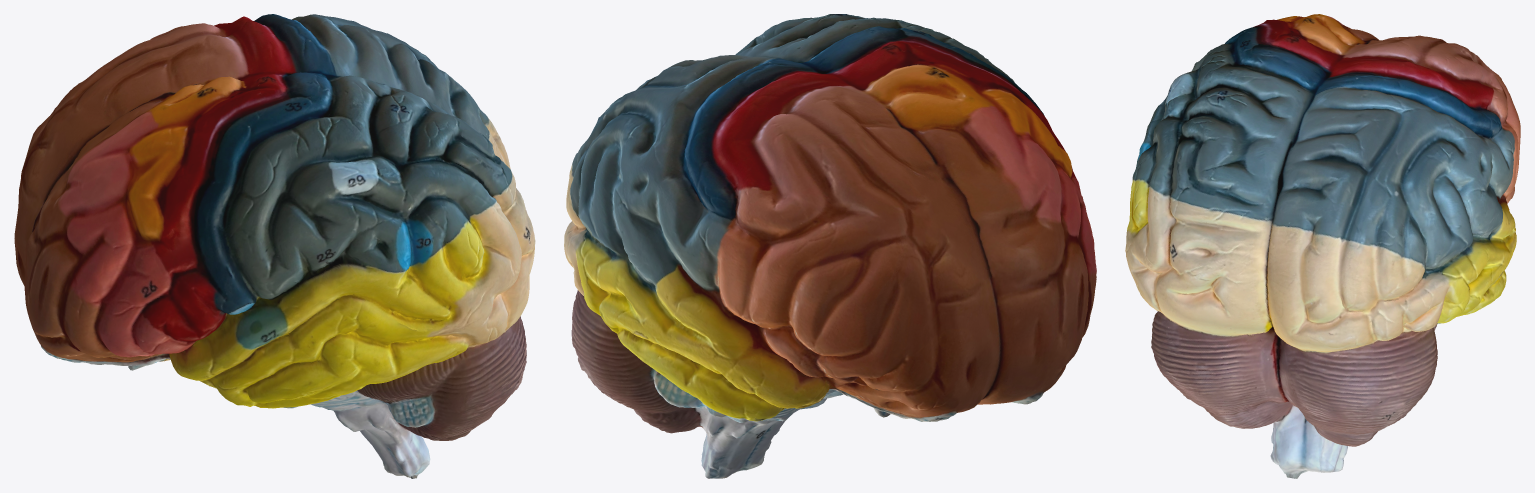
File: colored_brain_model.glb
3 views of the same model, side by side, from view 1: azimuth 30°, elevation 25°; view 2: azimuth 150°, elevation 25°; view 3: azimuth 270°, elevation 25° (orthographic). The views are drawn at different scales.
Parts seen in each view (by area): view 1: Object_4; view 2: Object_4; view 3: Object_4.
Boxes of the visible parts, x1=… form: Object_4: x1=14, y1=14, x2=535, y2=478; Object_4: x1=564, y1=14, x2=1096, y2=478; Object_4: x1=1125, y1=14, x2=1520, y2=478.
Bounding box in the file's own units: 0.4897 × 0.4352 × 0.4098.
Materials: 1 (1 with a texture image).
